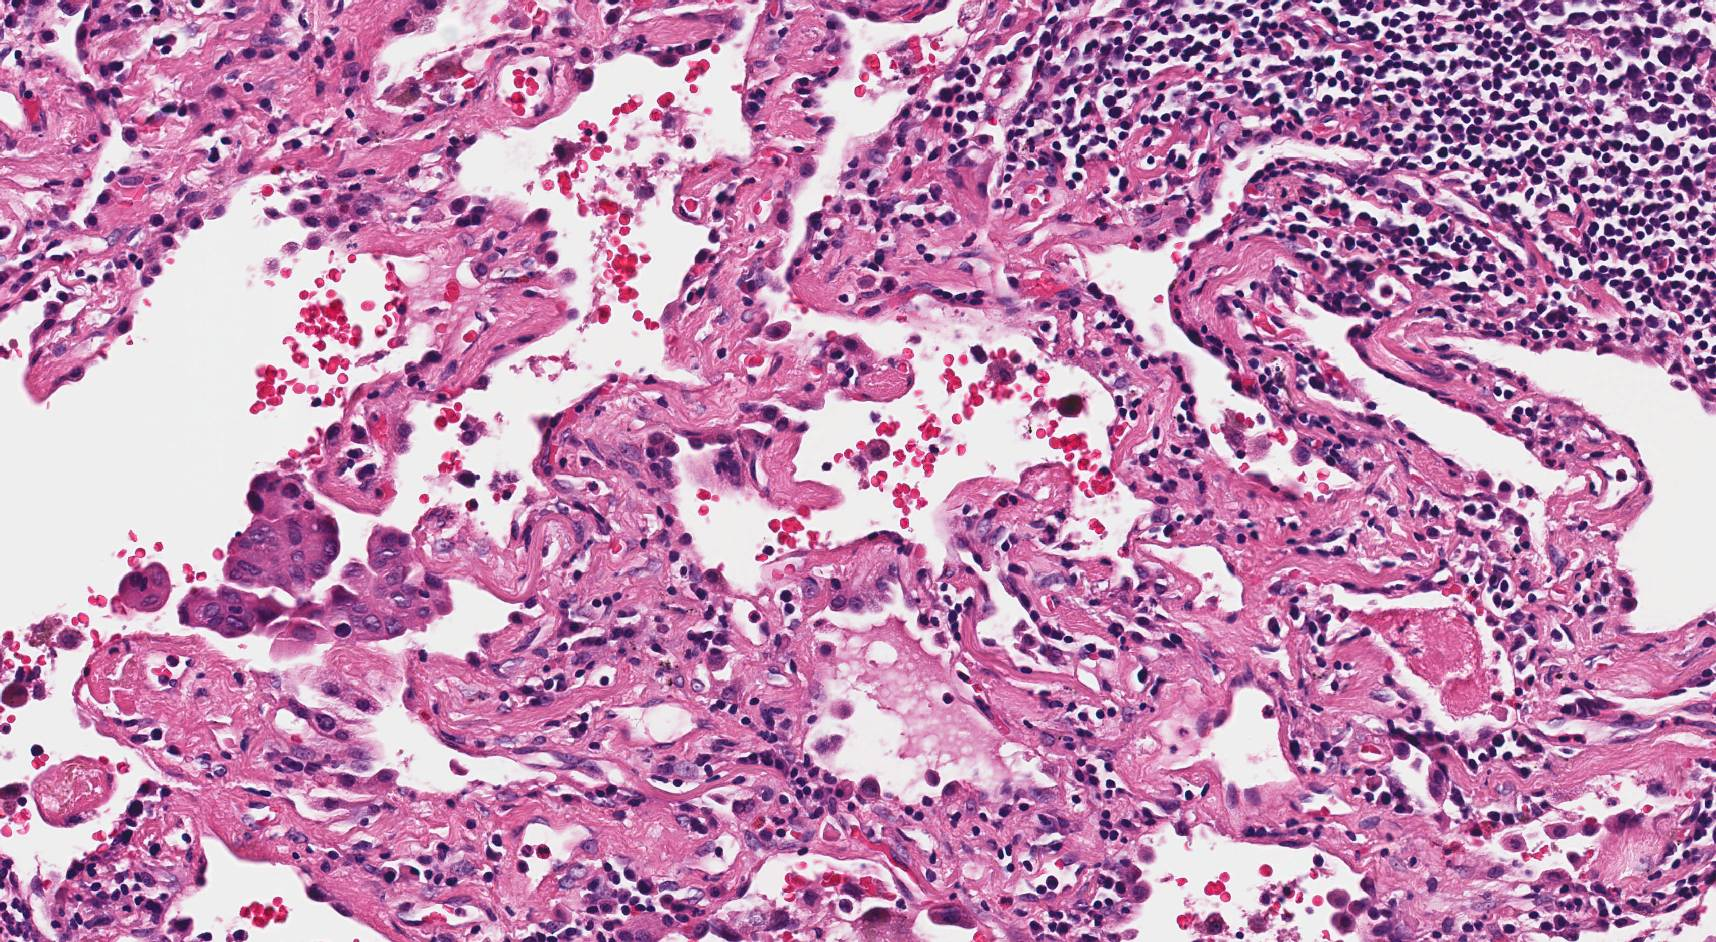stas: (178, 473, 452, 641), (119, 561, 169, 613)
